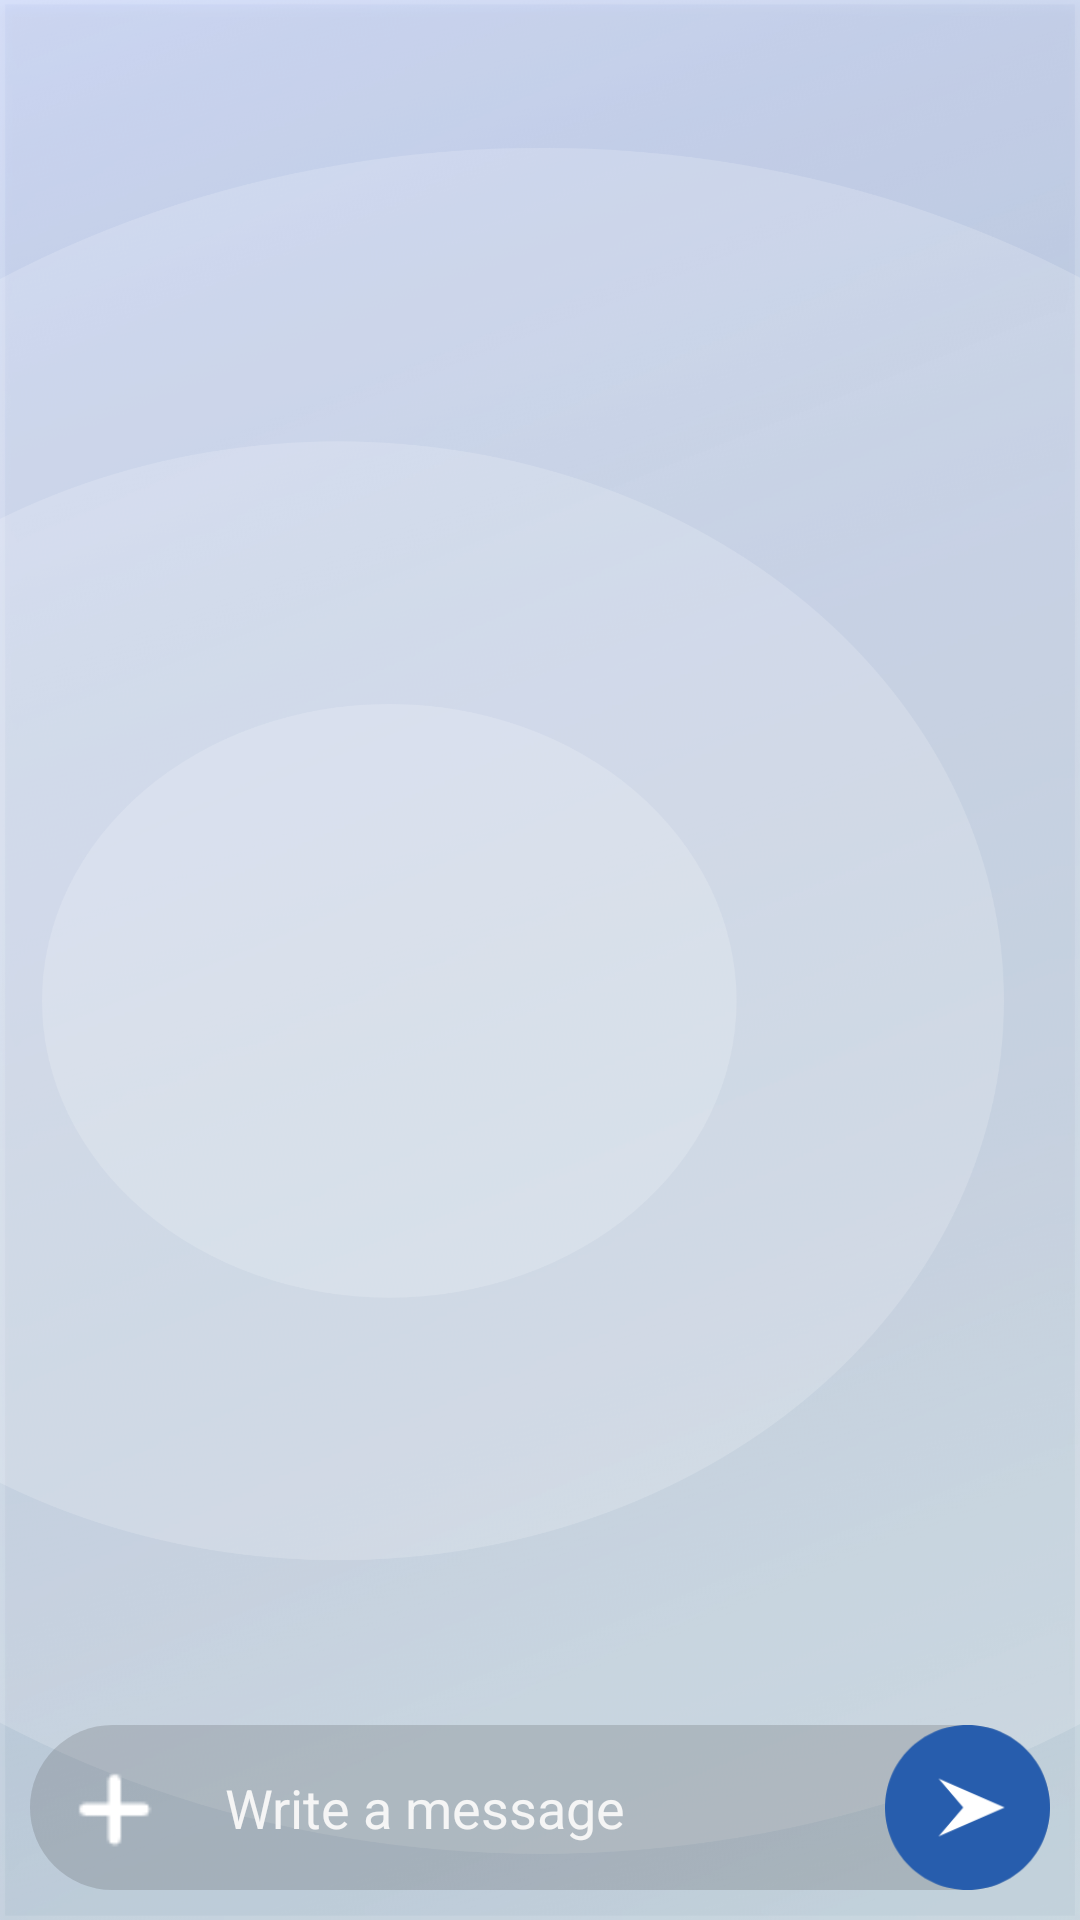

Where to tap for icons on this 1080w x 1920h app screen, as point (x, y):
chat attach clear: point (112, 1807)
chat send: point (967, 1807)
